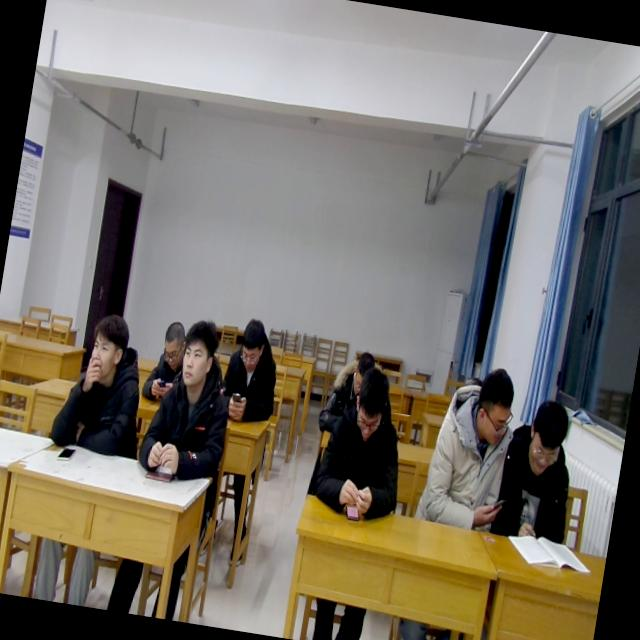bow: (216, 313, 288, 432), (316, 343, 378, 439), (138, 311, 192, 405)
down: (518, 396, 576, 482), (348, 368, 392, 442), (235, 312, 272, 376), (156, 316, 190, 372), (346, 344, 376, 398)
lookup: (81, 306, 135, 388), (174, 310, 226, 391)
sit: (134, 310, 248, 488), (306, 356, 419, 528), (414, 357, 522, 536), (47, 304, 156, 462), (491, 394, 587, 550)
